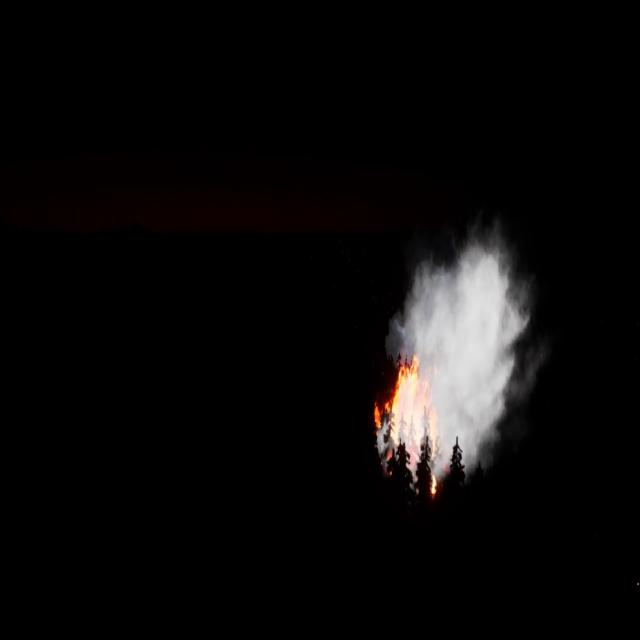fire: (366, 357, 439, 493)
smoke: (385, 236, 542, 461)
